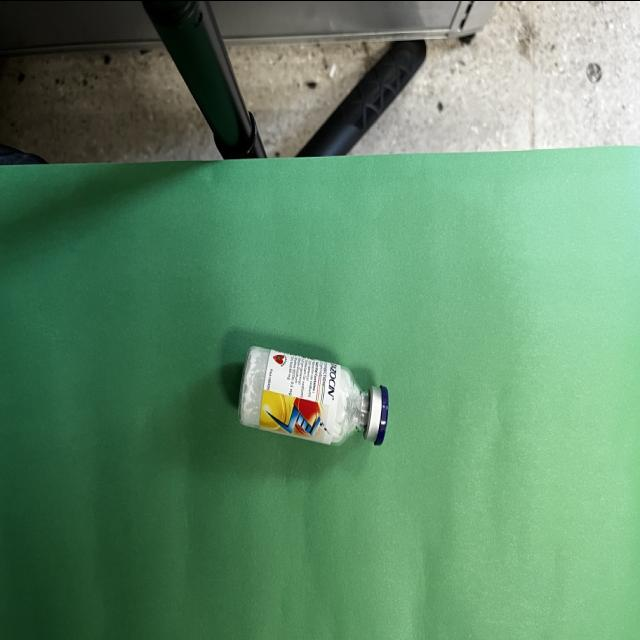Vials: (236, 345, 388, 445)
